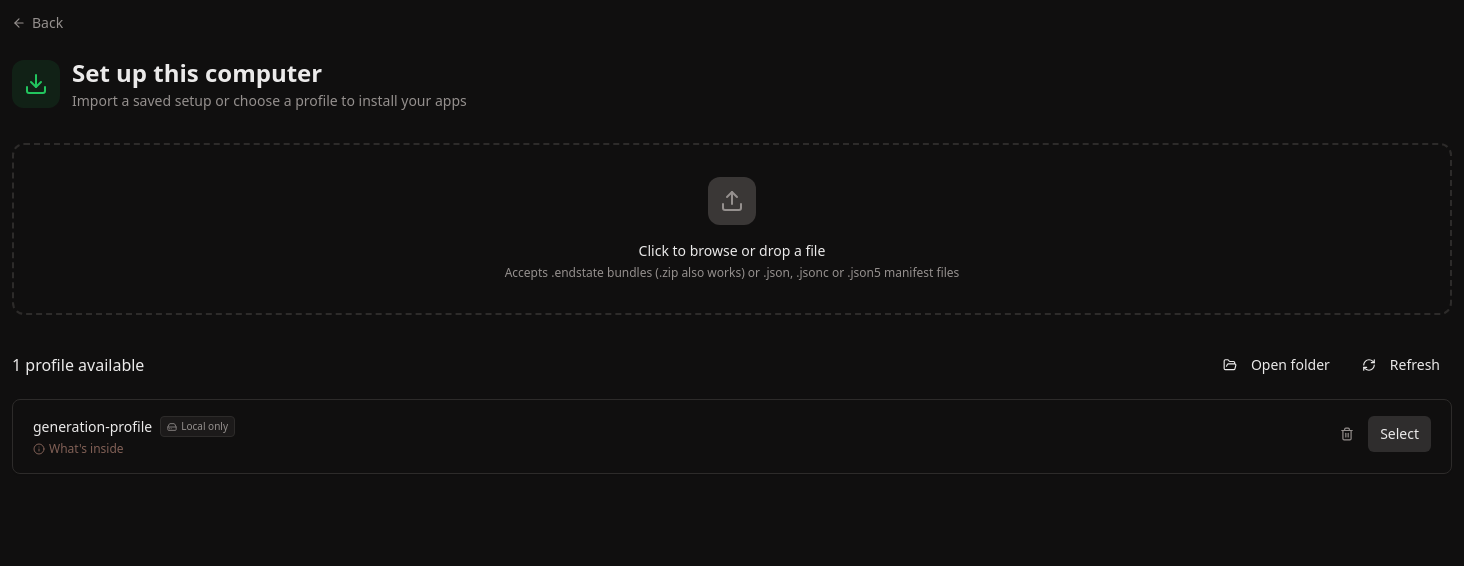
Scenario: SetupFlow config generations › summarizes install-only settings once without presenting restore-disabled resolutions
Click the text "generation-profile": (93, 426) [33,416,152,436]
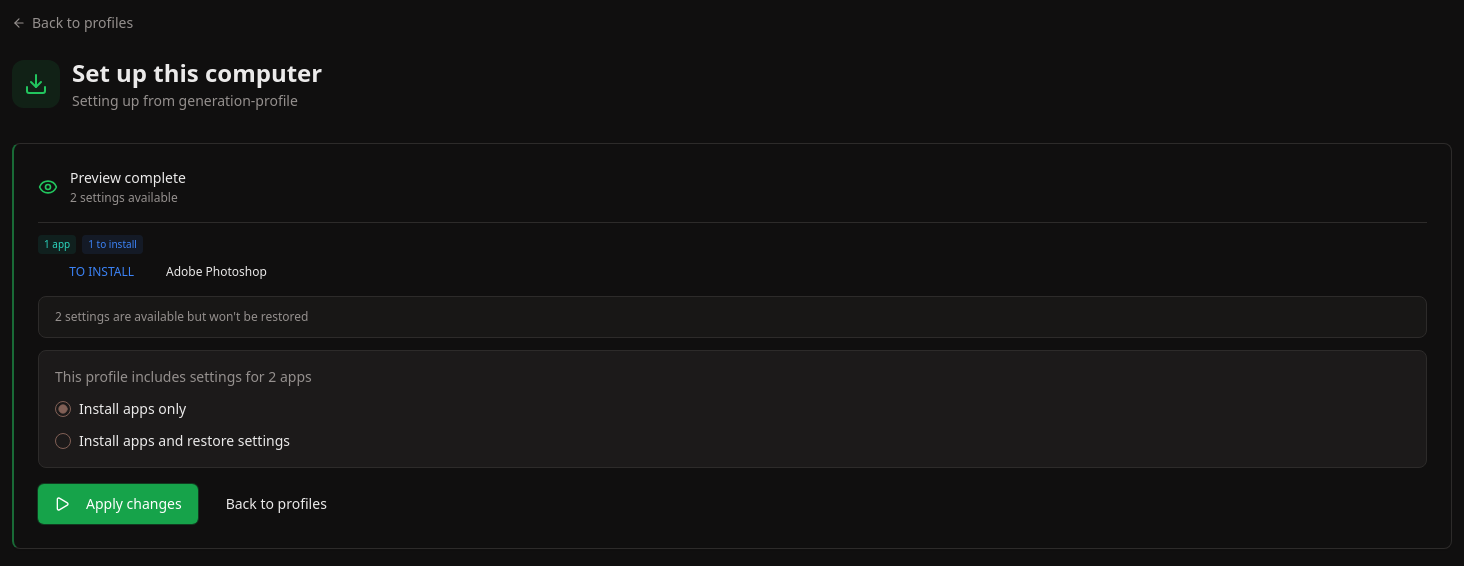
Now the text "Preview complete" is shown, box [70,168,186,188]
Now the text "2 settings are available but won't be restored" is shown once, box [38,296,1427,338]
